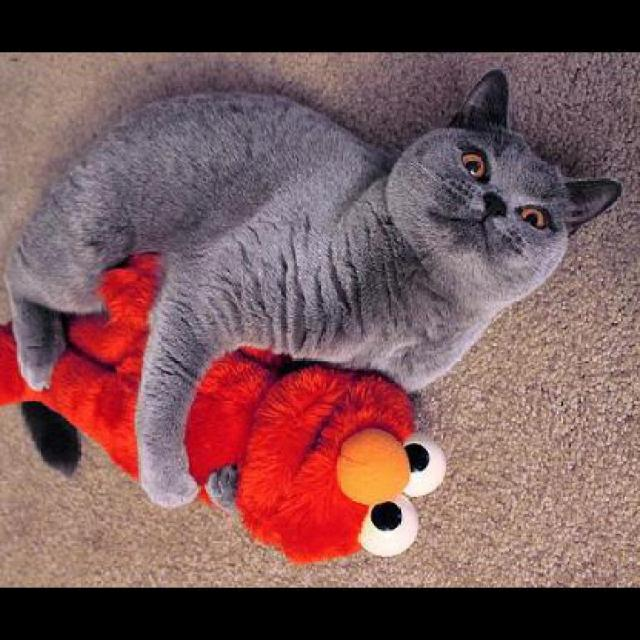unauthorized: (0, 68, 622, 509)
